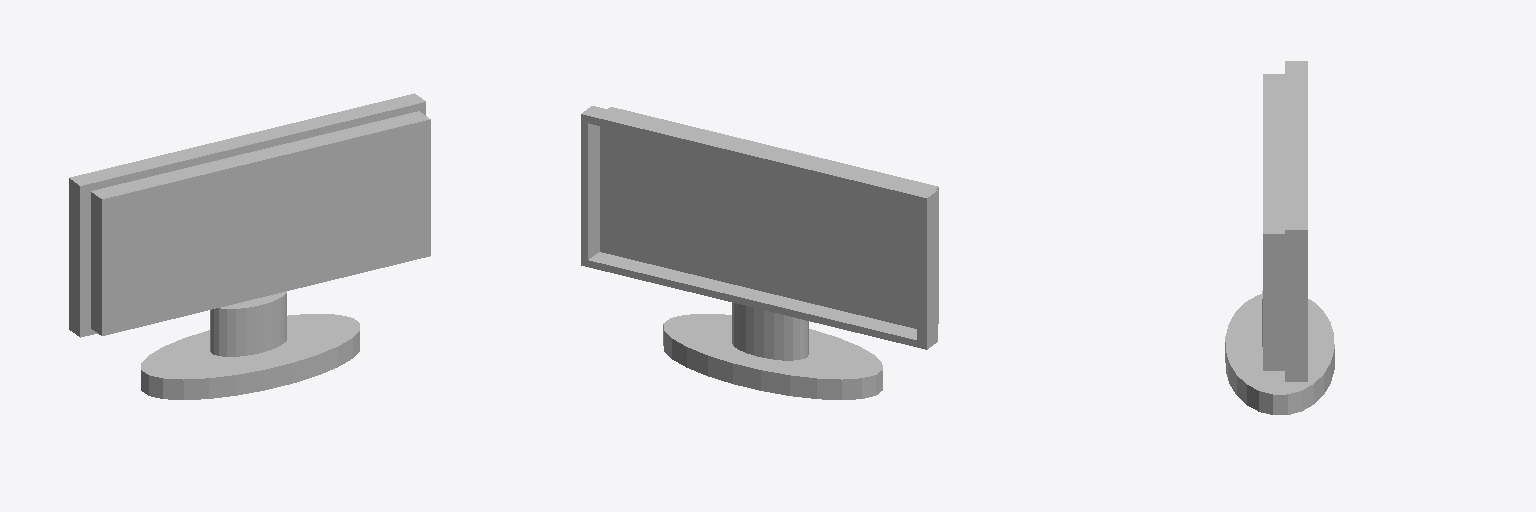
Rendered from monitor2.obj.
3 renders of one model, left to right at view 1: azimuth 30°, elevation 25°; view 2: azimuth 150°, elevation 25°; view 3: azimuth 270°, elevation 25°, orthographic.
Parts seen in each view (by area): view 1: Mesh1 Model; view 2: Mesh1 Model; view 3: Mesh1 Model.
Boxes of the visible parts, x1,y1,x2,y2 form: Mesh1 Model: [69, 93, 430, 399]; Mesh1 Model: [581, 106, 938, 399]; Mesh1 Model: [1225, 61, 1334, 414].
Size of the model in its own units: 8292 by 5043 by 2264.